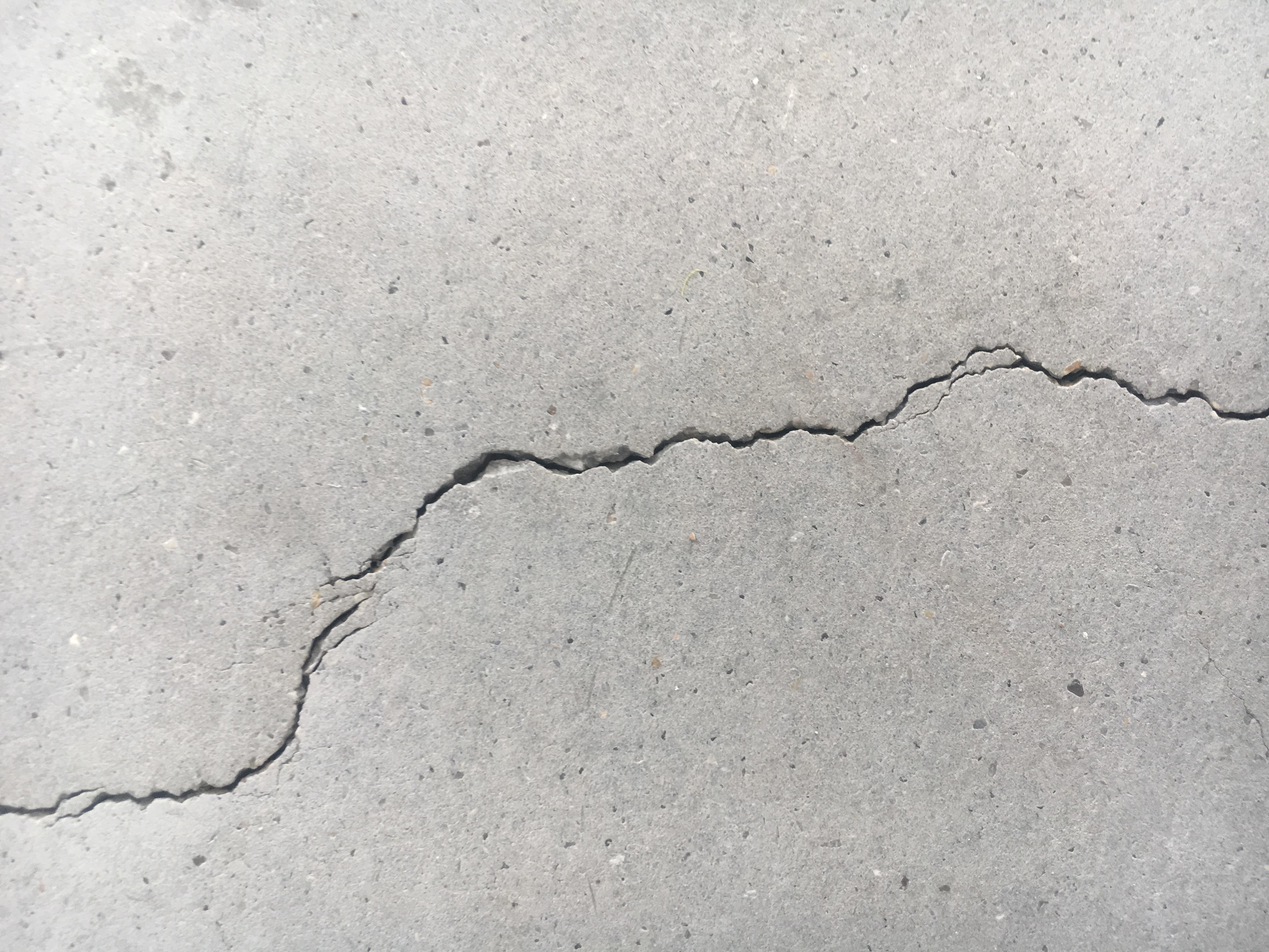Diagonal Crack: (4, 340, 1266, 825)
